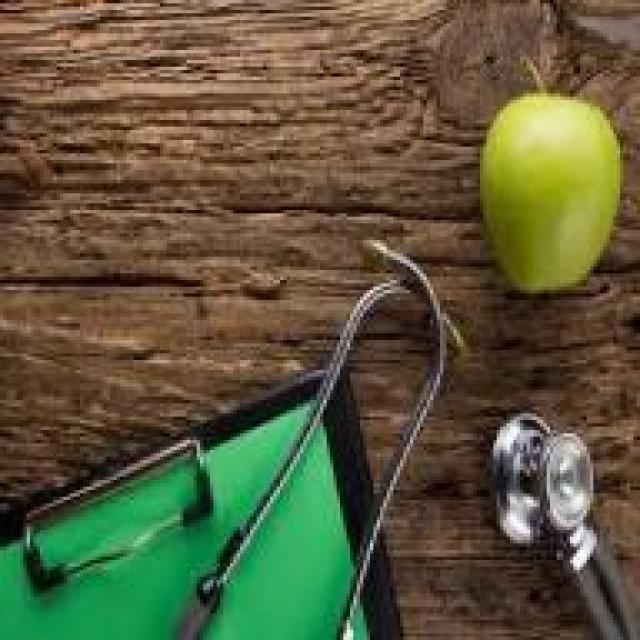apple: (473, 94, 620, 304)
